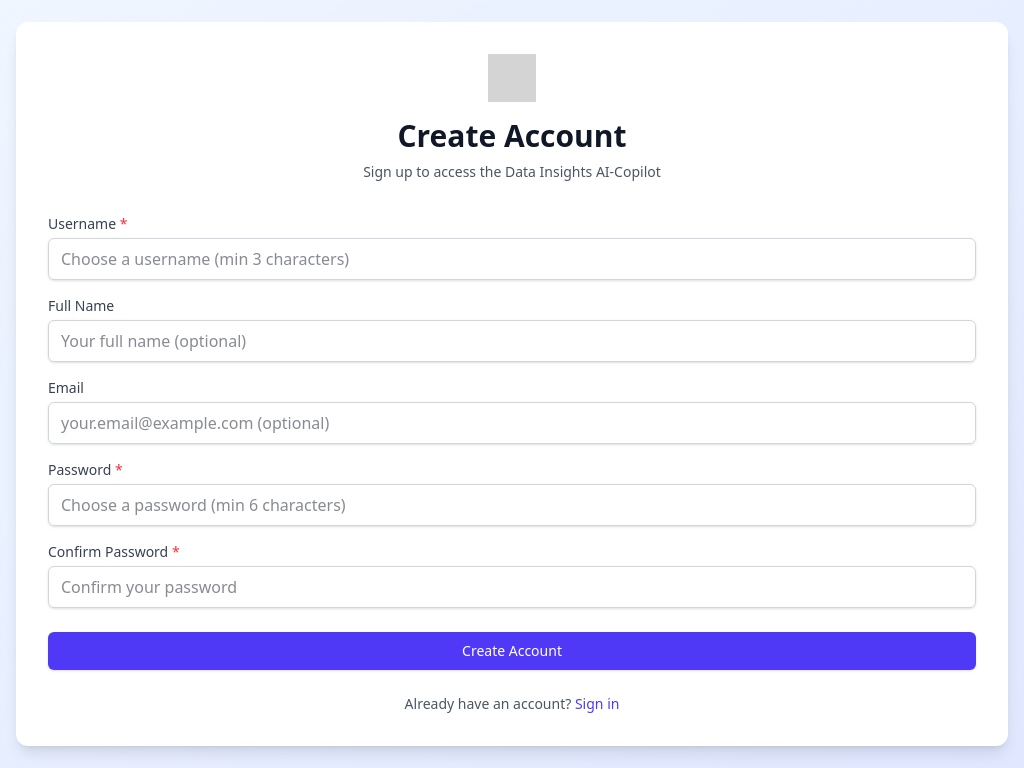
Scenario: RegisterPage › validates: password too short
Type "validuser" into the field labelled "Username *" at (512, 259), box [48,238,976,280]
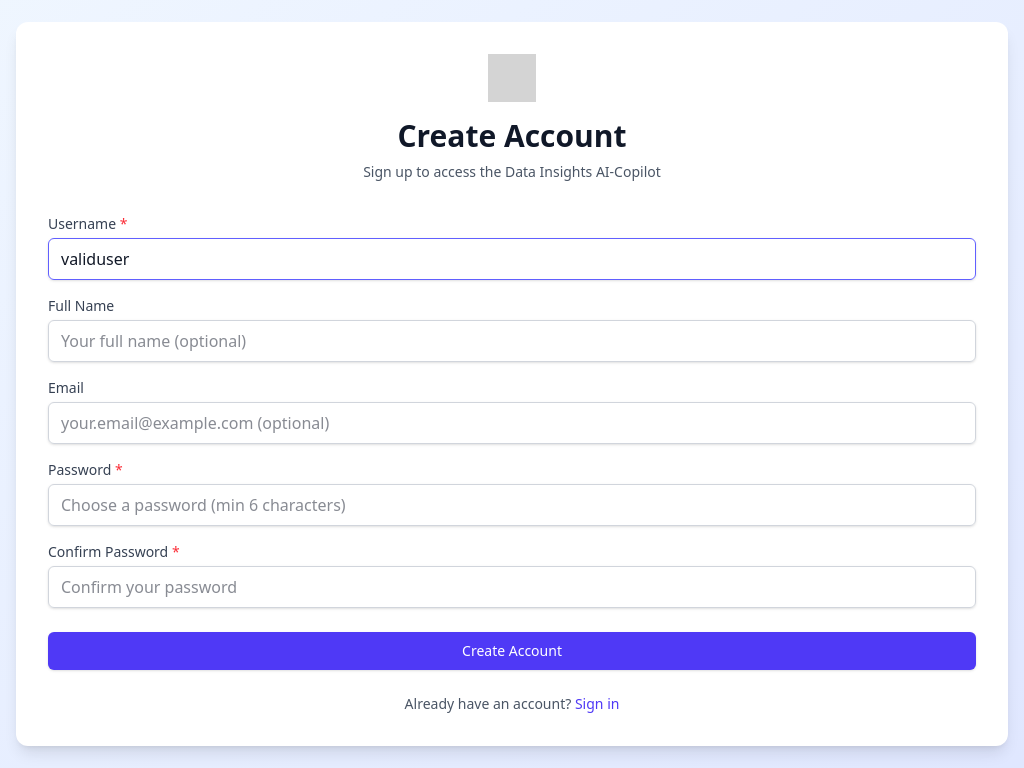
Type "12345" into the password field labelled "Password *" at (512, 505), box [48,484,976,526]
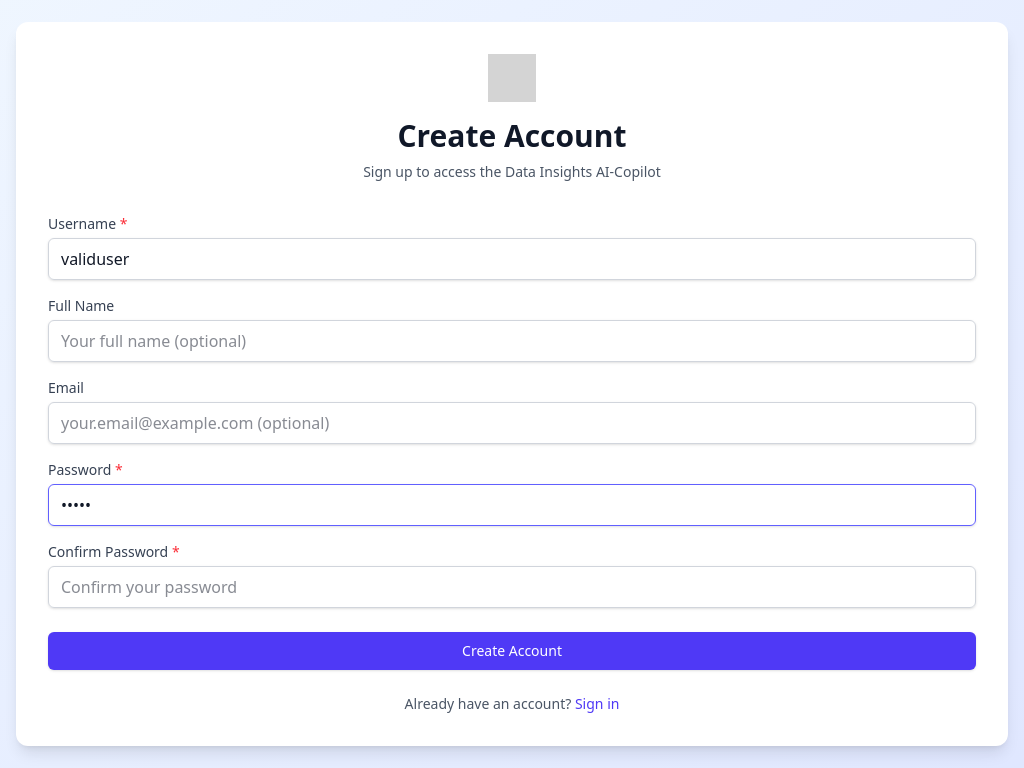
Type "12345" into the password field labelled "Confirm Password *" at (512, 587), box [48,566,976,608]
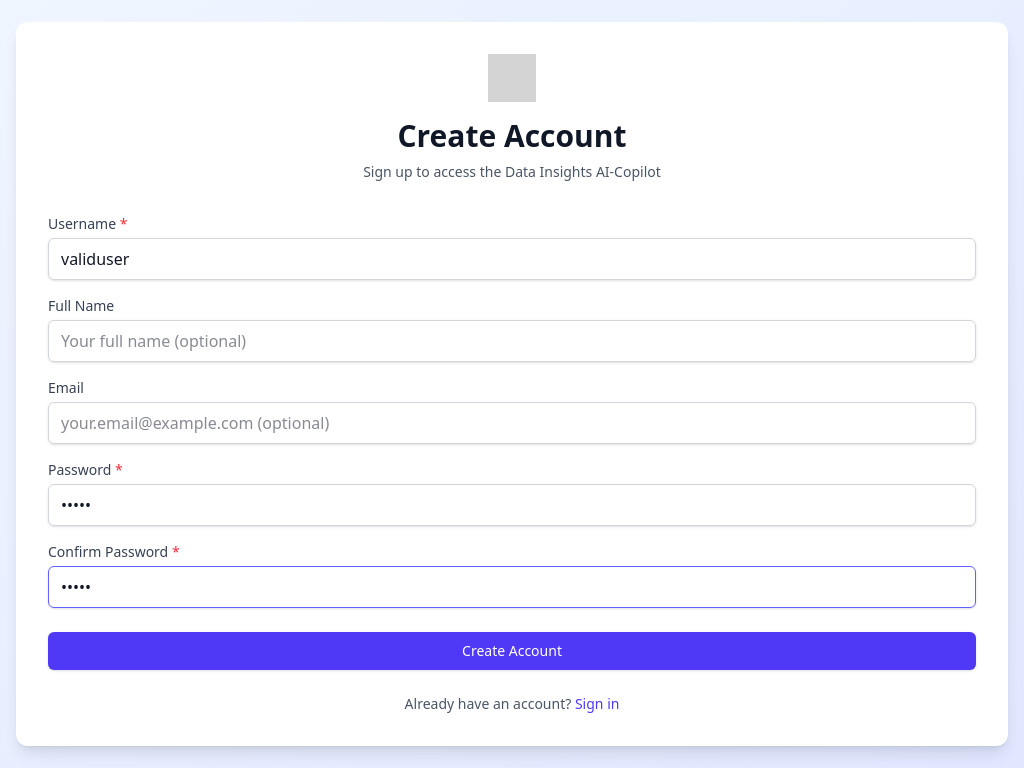
Click the button "Create Account" at (512, 651), box [48,632,976,670]
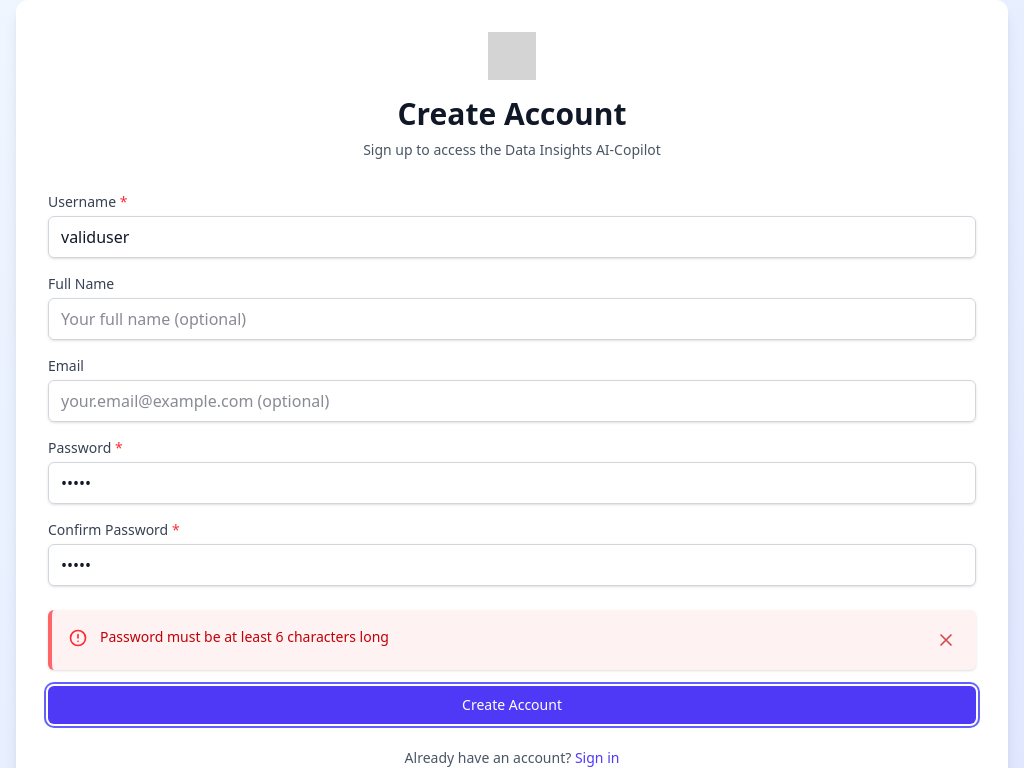
Check: the message shows "Password must be at least 6 characters", box [100,627,389,646]
